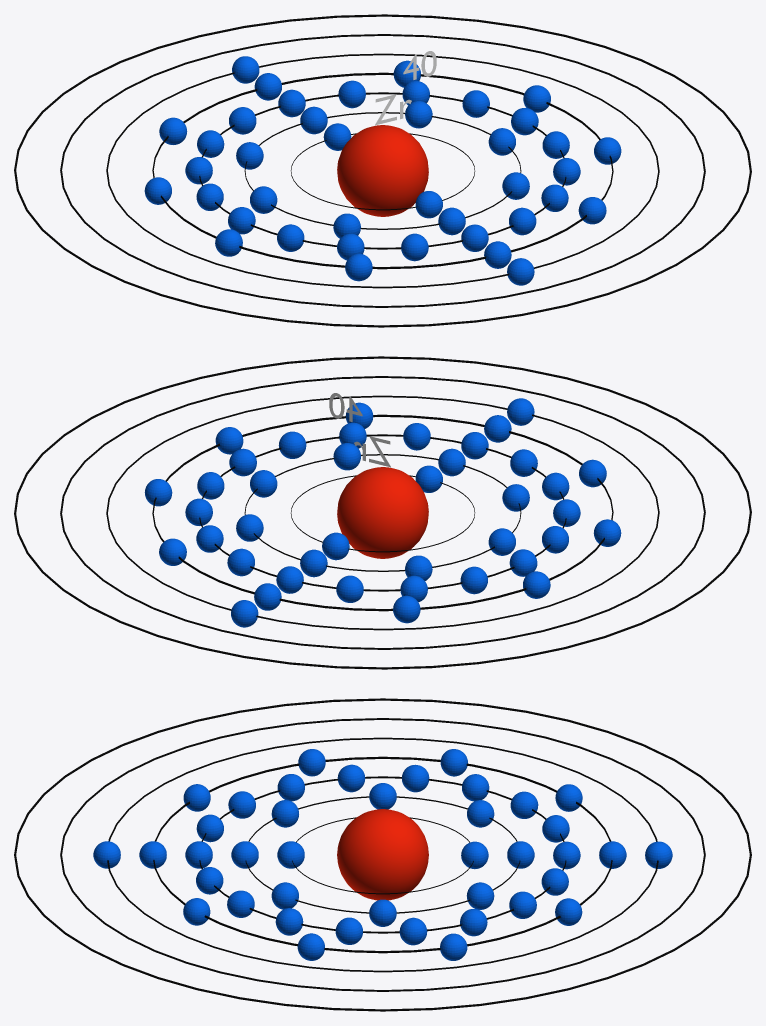
3 views of the same model, one above another, from view 1: azimuth 30°, elevation 25°; view 2: azimuth 150°, elevation 25°; view 3: azimuth 270°, elevation 25° (orthographic).
Visible parts, largest first — view 1: Zr3, Proton, Zr4, Zr2, n7, n6, n5, n4, Zr6, Zr1, n3, n2; view 2: Zr3, Proton, Zr4, Zr2, n7, n6, n5, n4, Zr6, Zr1, n3, n2; view 3: Zr3, Proton, Zr4, Zr2, n7, n6, n5, n4, Zr1, Zr6, n3, n2 (+1 smaller).
Part boxes in pixels (<box>): Zr3: <box>185,80,580,261</box>; Proton: <box>337,125,428,216</box>; Zr4: <box>144,60,621,281</box>; Zr2: <box>236,101,529,238</box>; n7: <box>14,14,751,327</box>; n6: <box>60,34,705,307</box>; n5: <box>106,53,659,288</box>; n4: <box>152,72,613,269</box>; Zr6: <box>232,56,534,285</box>; Zr1: <box>323,123,442,218</box>; n3: <box>199,92,566,249</box>; n2: <box>244,112,521,229</box>; Zr3: <box>185,422,580,602</box>; Proton: <box>337,467,428,558</box>; Zr4: <box>144,402,621,623</box>; Zr2: <box>236,443,529,580</box>; n7: <box>14,356,751,669</box>; n6: <box>60,376,705,649</box>; n5: <box>106,395,659,630</box>; n4: <box>152,414,613,611</box>; Zr6: <box>231,398,534,627</box>; Zr1: <box>322,465,442,560</box>; n3: <box>199,434,566,591</box>; n2: <box>244,454,521,571</box>; Zr3: <box>185,764,580,945</box>; Proton: <box>337,809,428,900</box>; Zr4: <box>139,749,626,960</box>; Zr2: <box>231,783,534,926</box>; n7: <box>14,698,751,1011</box>; n6: <box>60,718,705,991</box>; n5: <box>107,737,658,972</box>; n4: <box>153,756,612,953</box>; Zr1: <box>277,841,488,869</box>; Zr6: <box>93,841,672,868</box>; n3: <box>199,776,566,933</box>; n2: <box>245,796,520,913</box>.
Size of the model in its own units: 802 by 180 by 802.
